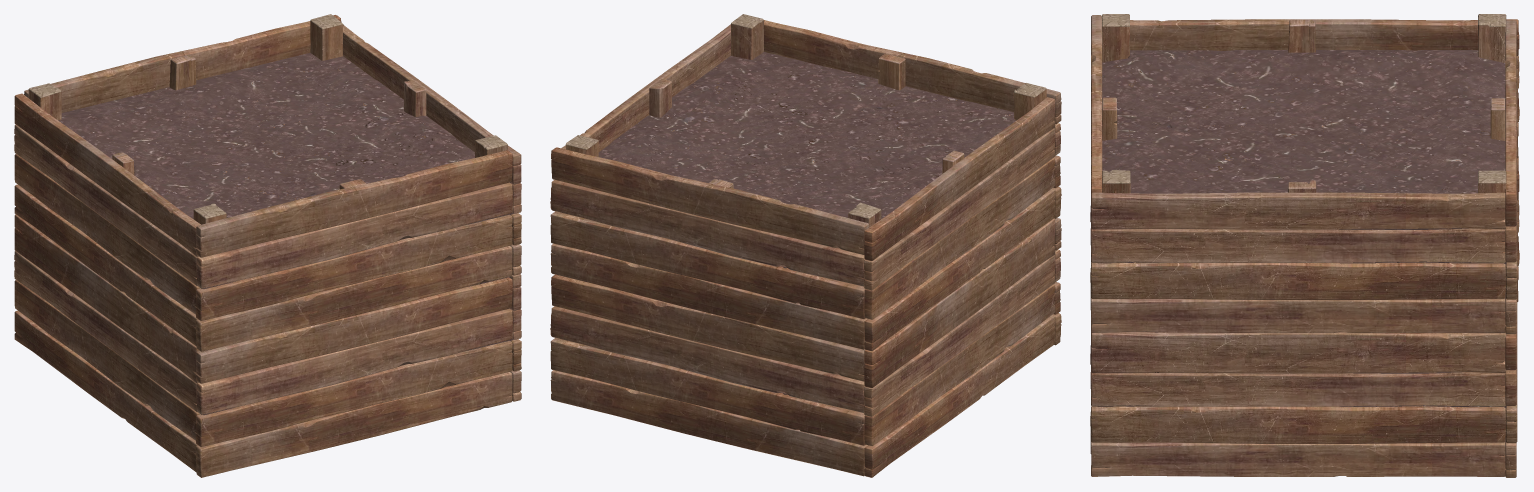
3 views of the same model, side by side, from view 1: azimuth 30°, elevation 25°; view 2: azimuth 150°, elevation 25°; view 3: azimuth 270°, elevation 25° (orthographic). The views are drawn at different scales.
Parts seen in each view (by area): view 1: SM_Oak_Planter_01v1_LOD0; view 2: SM_Oak_Planter_01v1_LOD0; view 3: SM_Oak_Planter_01v1_LOD0.
Part boxes in pixels (x1=…): SM_Oak_Planter_01v1_LOD0: x1=14, y1=14, x2=521, y2=477; SM_Oak_Planter_01v1_LOD0: x1=550, y1=14, x2=1061, y2=477; SM_Oak_Planter_01v1_LOD0: x1=1090, y1=14, x2=1519, y2=477.
Size of the model in its own units: 3.13 by 2.41 by 3.15.
Materials: 3 (3 with a texture image).
